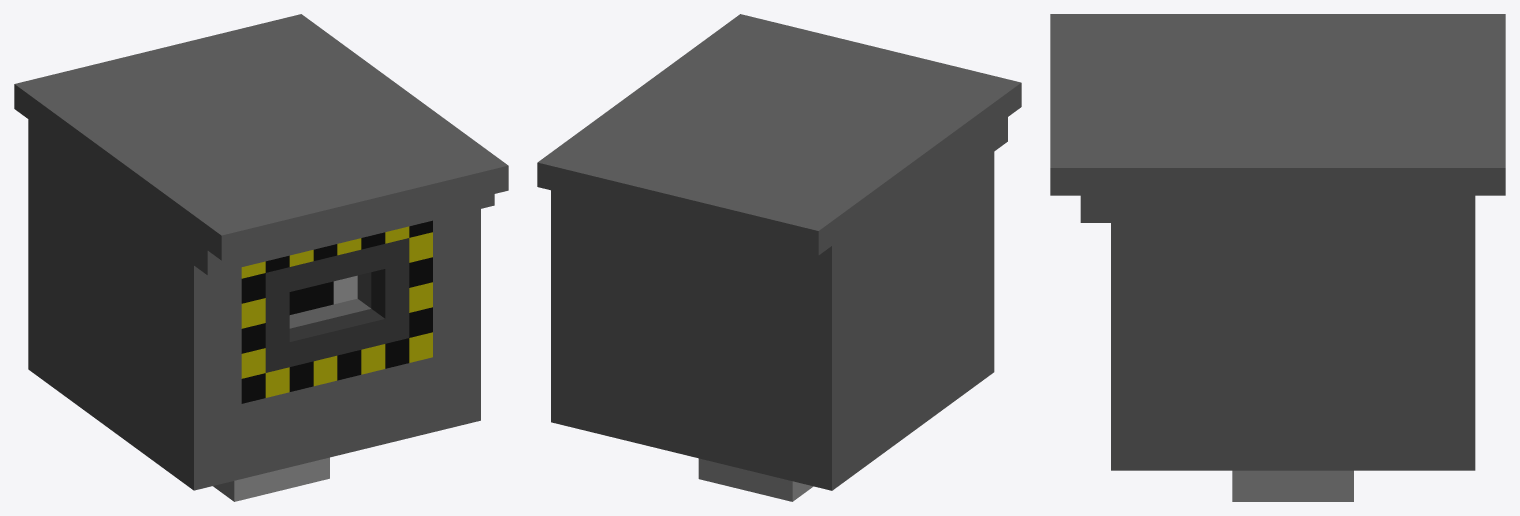
The model's file is Radar.obj.
3 views of the same model, side by side, from view 1: azimuth 30°, elevation 25°; view 2: azimuth 150°, elevation 25°; view 3: azimuth 270°, elevation 25° (orthographic). The views are drawn at different scales.
Size of the model in its own units: 1.2 by 1.4 by 1.5.
1 material, 1 textured.
